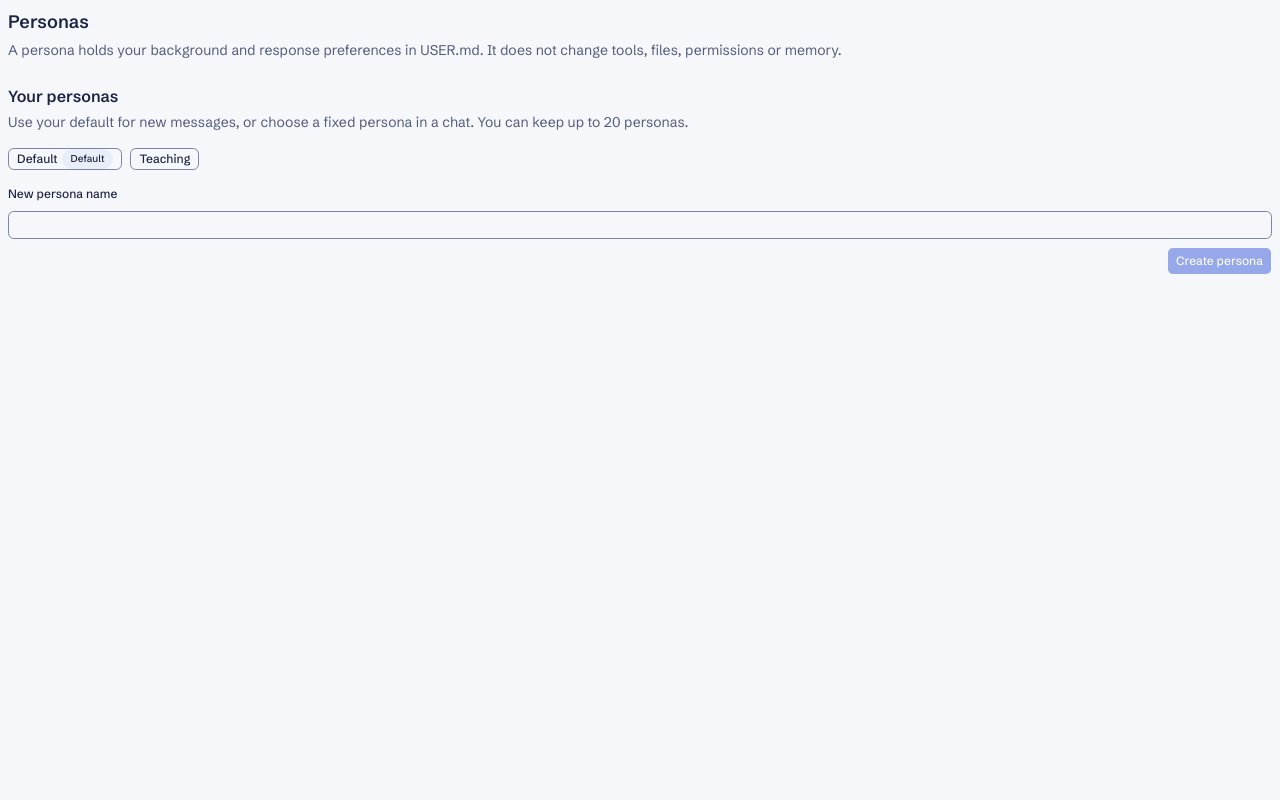
requires delete confirmation and returns focus to creation after deletion
Click the button with aria-label "Edit persona Teaching".
click(165, 159)  # box x1=130 y1=148 x2=199 y2=170
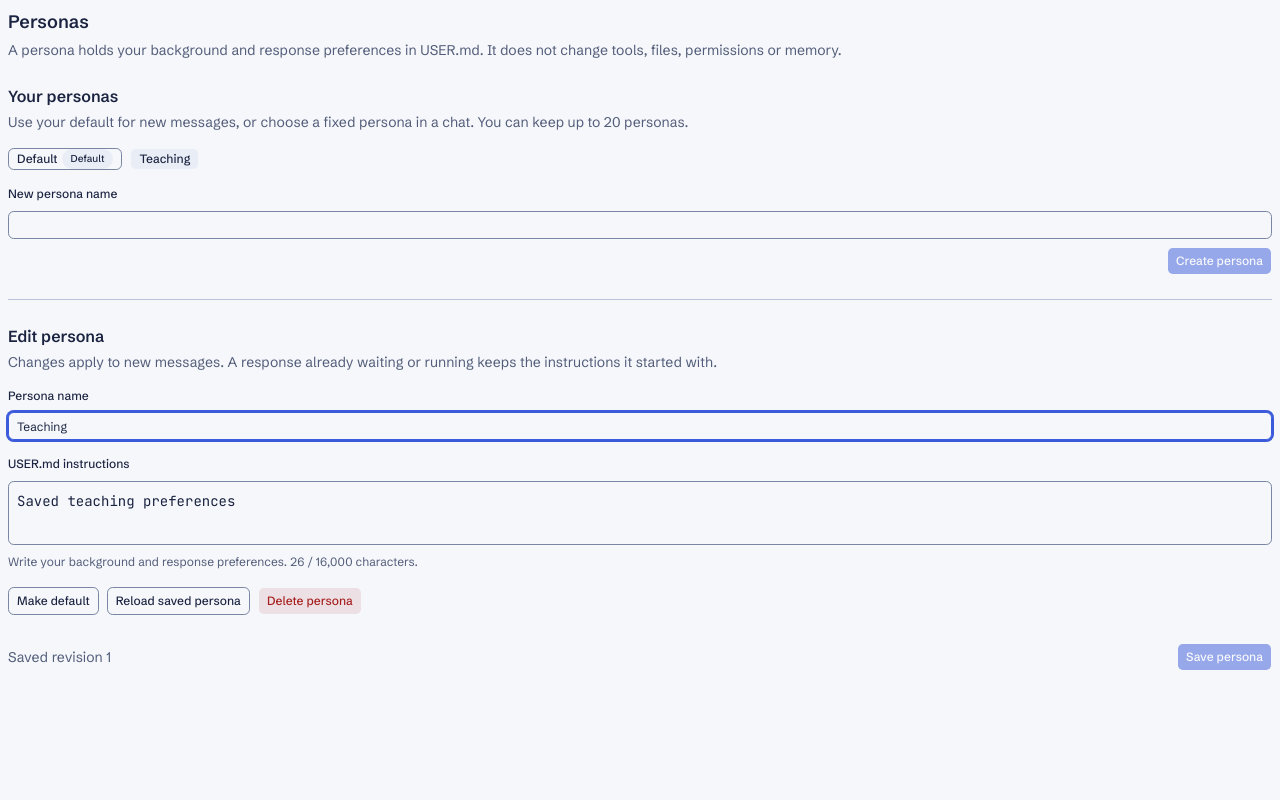
Click the button "Delete persona".
click(310, 600)  # box x1=258 y1=586 x2=362 y2=614
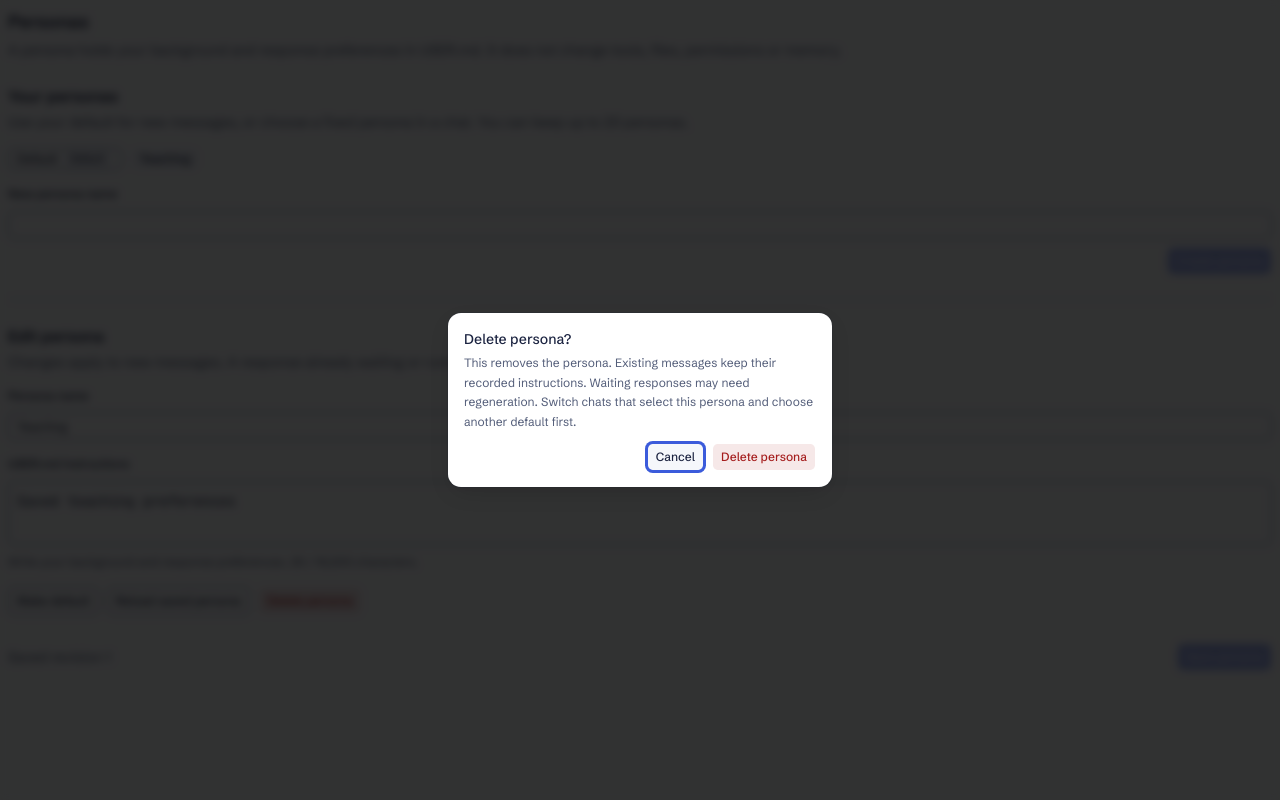
Expected: the dialog is shown, x1=448 y1=313 x2=832 y2=487
Press Escape
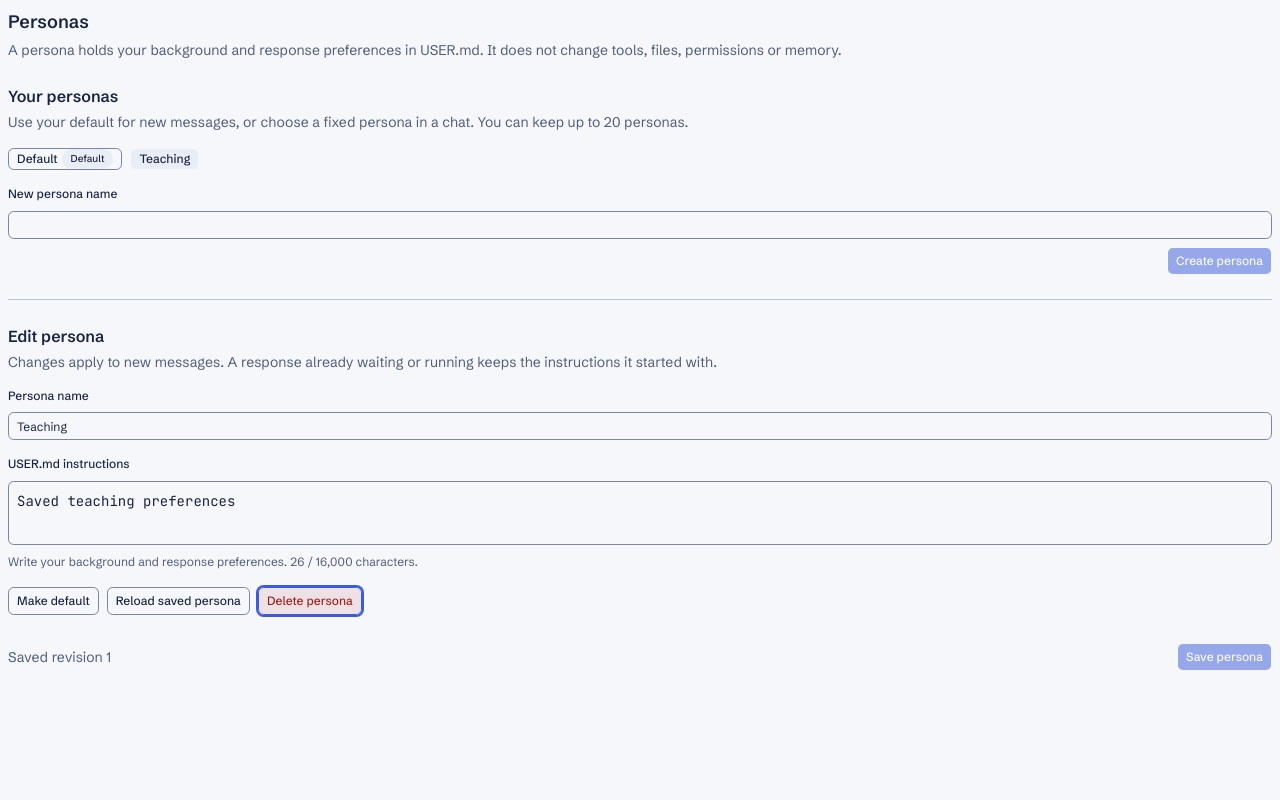
Click the button "Delete persona".
click(310, 600)  # box x1=258 y1=586 x2=362 y2=614
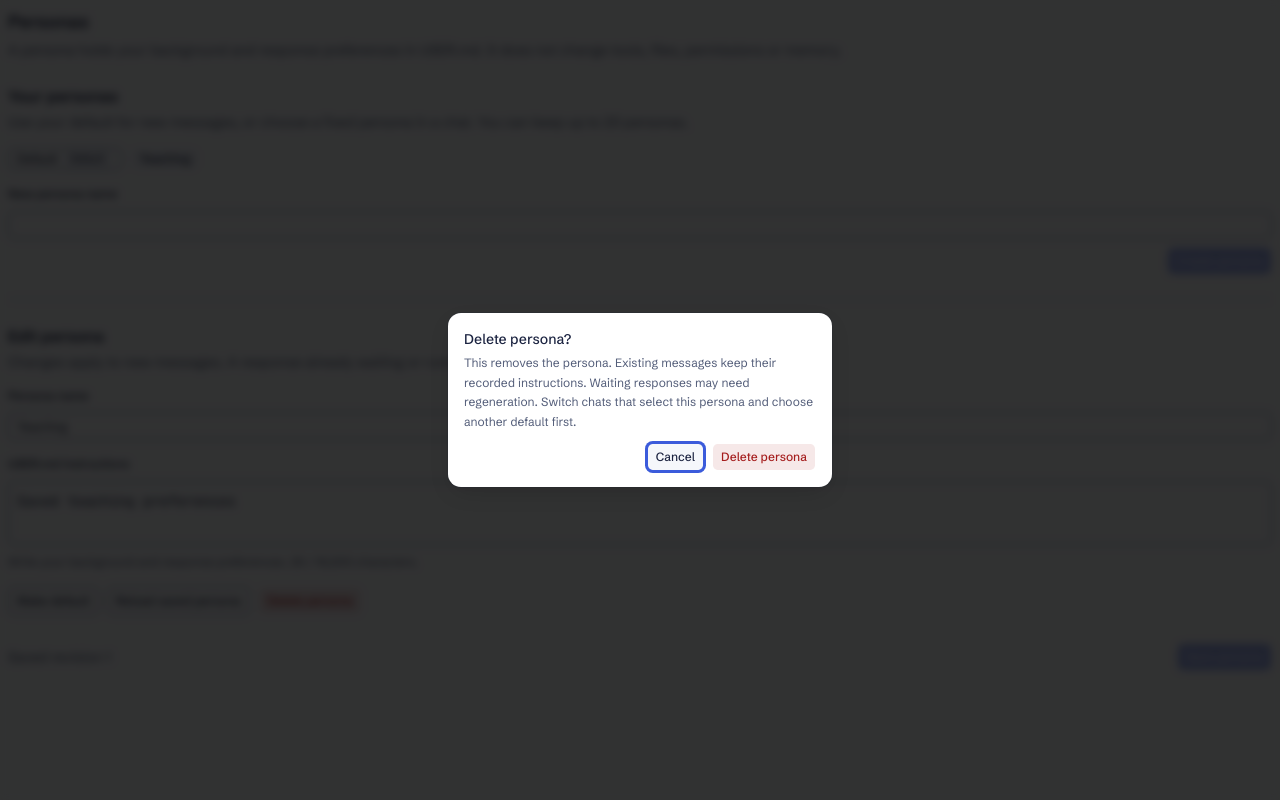
Click the button "Delete persona".
click(764, 457)  # box x1=712 y1=443 x2=816 y2=471
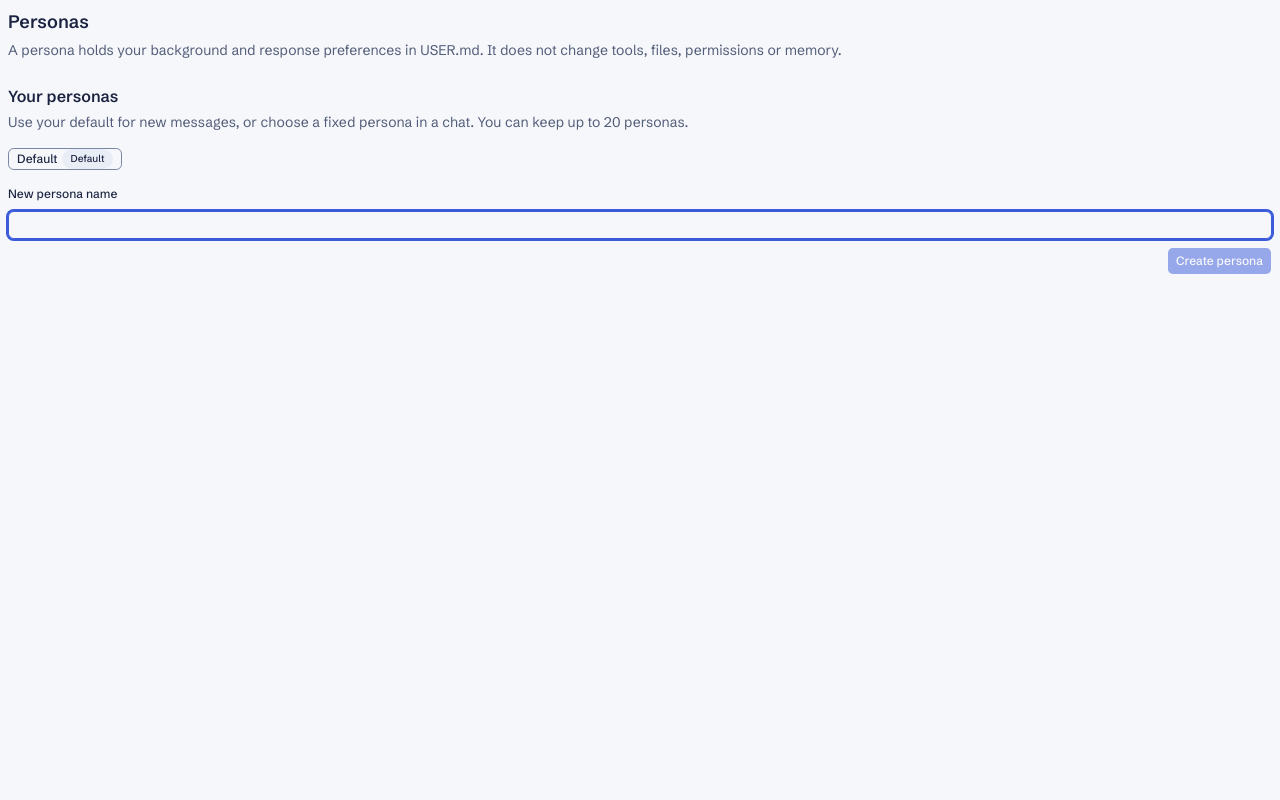
Expected: the label labelled "USER.md instructions" is gone
